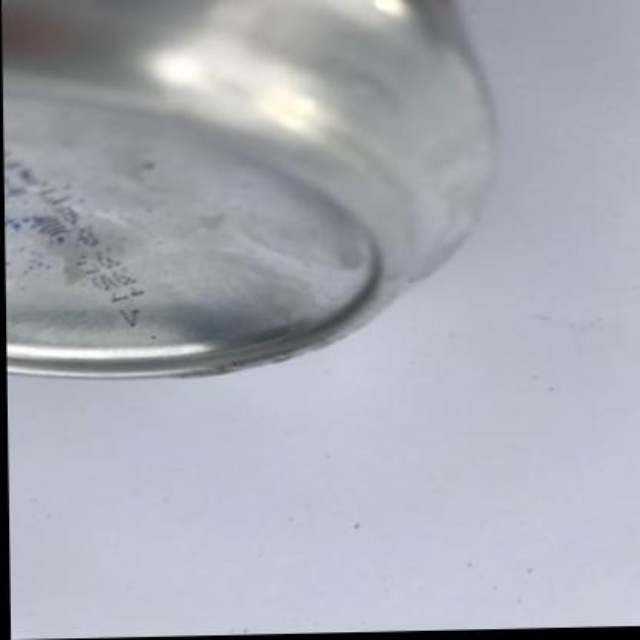trash: (5, 0, 491, 374)
